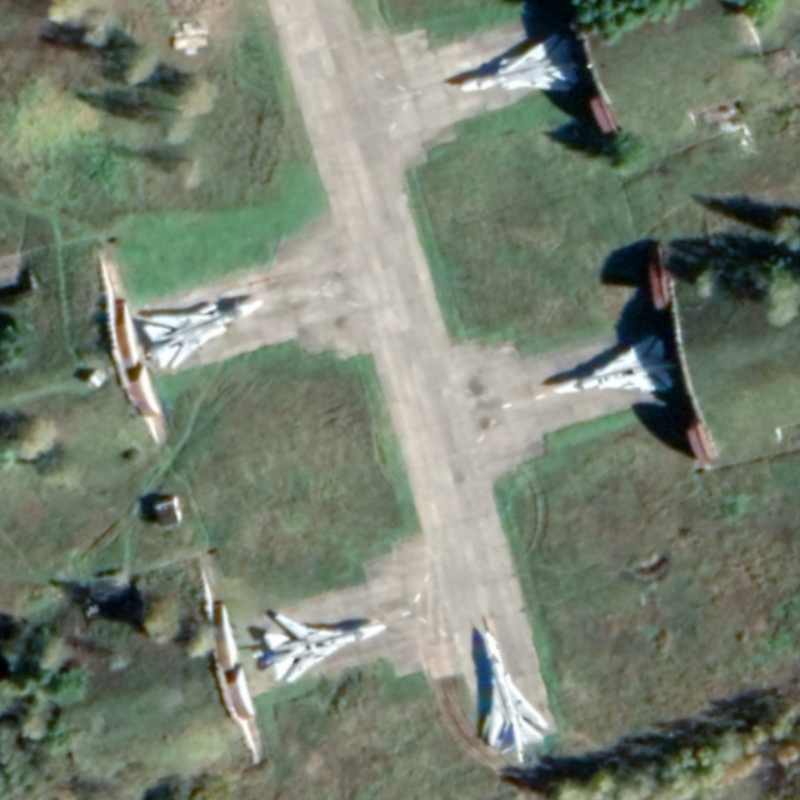A20: (261, 611, 390, 685), (139, 297, 266, 372), (480, 630, 550, 757), (458, 32, 583, 95), (551, 333, 677, 395)
